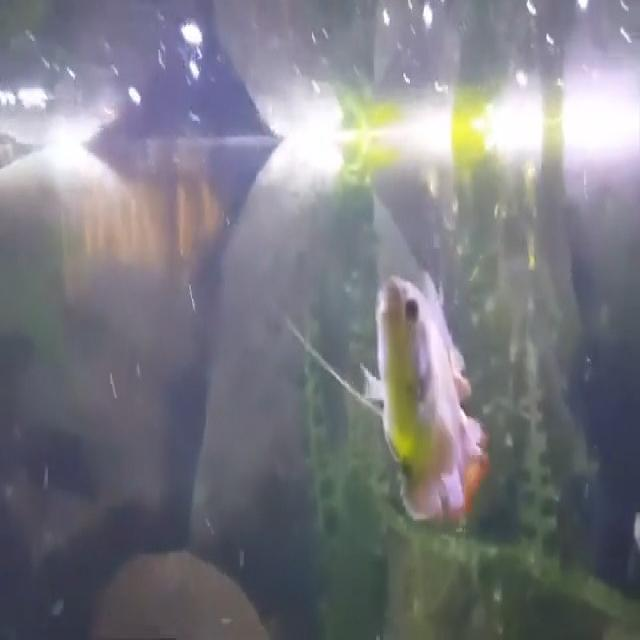fish: (368, 256, 491, 525)
